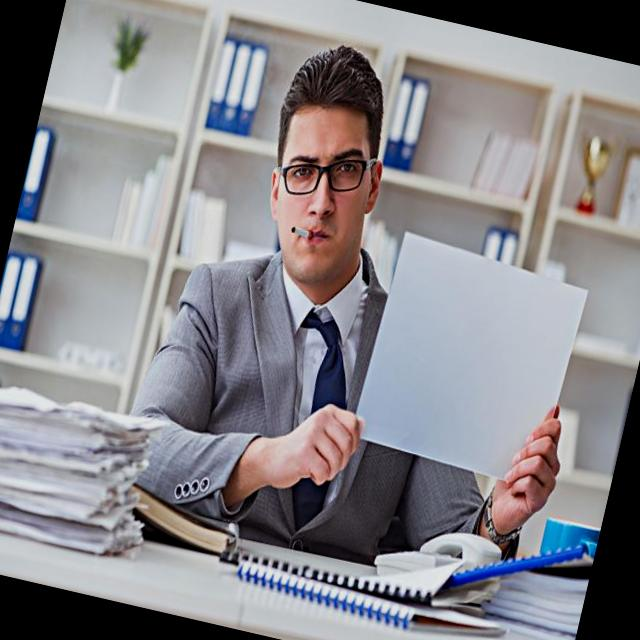smoke: (283, 210, 321, 250)
